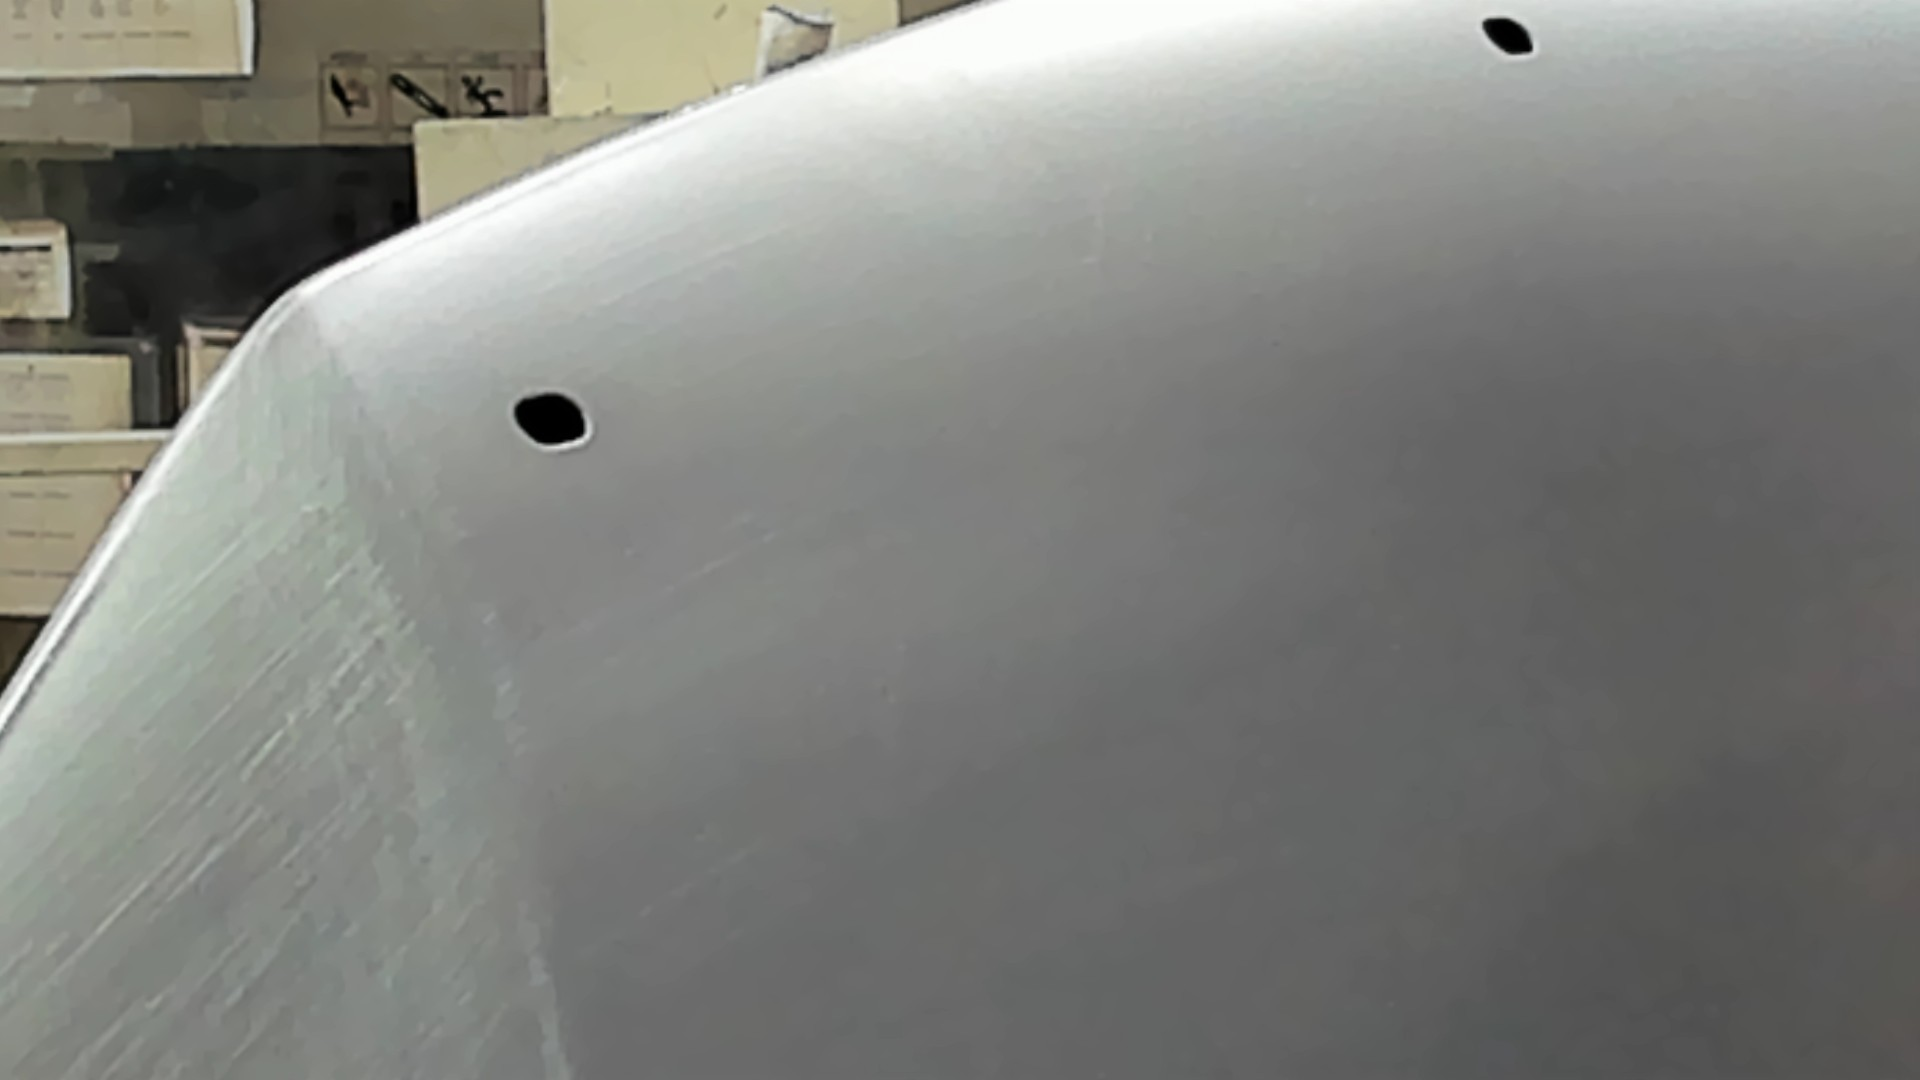amorfo: (509, 388, 595, 456), (1473, 13, 1543, 65)
